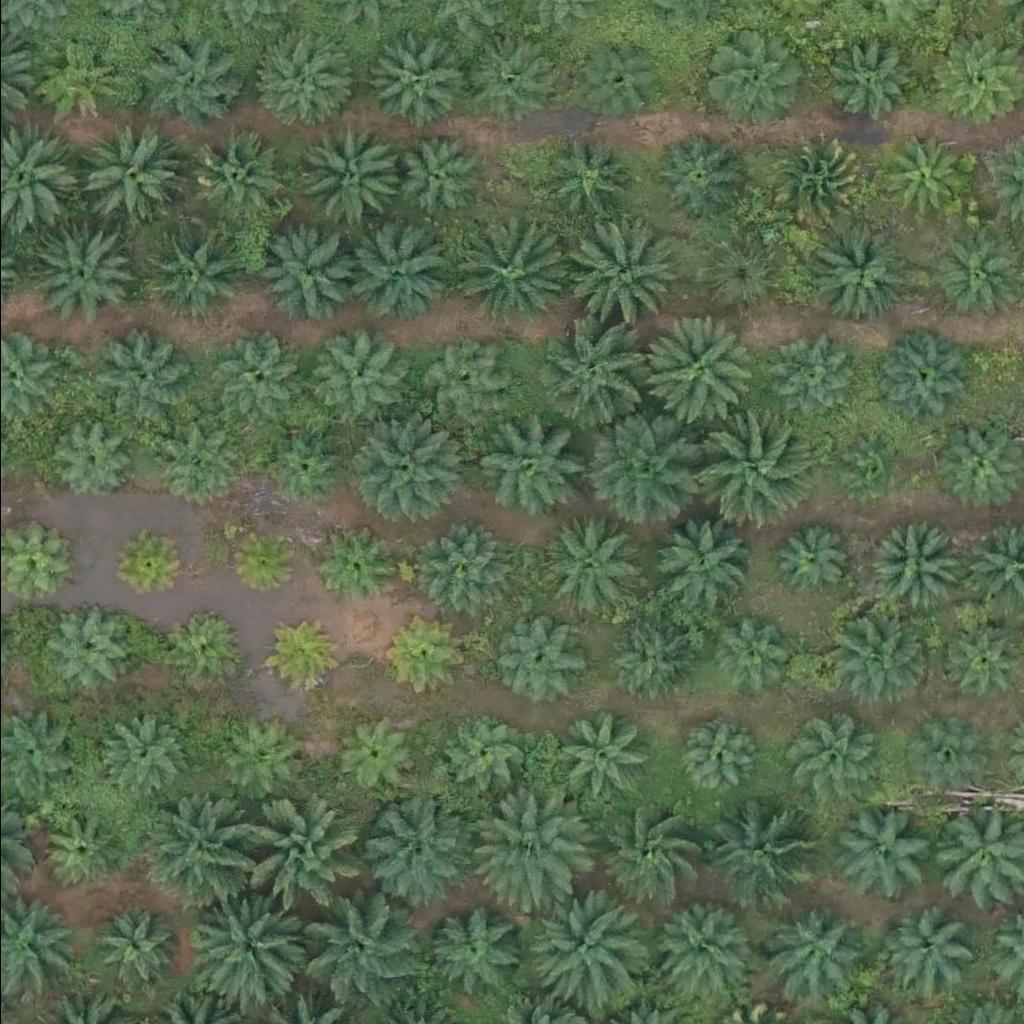Kelapa_Sawit: (559, 214, 673, 327), (299, 897, 412, 1010), (141, 796, 254, 909), (583, 409, 696, 522), (473, 410, 586, 523), (350, 411, 463, 524), (537, 320, 650, 433), (641, 316, 754, 429), (446, 210, 559, 323), (521, 896, 635, 1008), (236, 802, 350, 914), (697, 797, 811, 909), (692, 416, 806, 528), (194, 892, 307, 1004), (363, 789, 476, 901), (478, 789, 591, 901), (591, 793, 704, 905), (34, 223, 135, 323), (429, 897, 530, 997), (829, 809, 930, 909), (545, 708, 646, 808), (829, 603, 930, 703), (541, 512, 642, 612), (869, 330, 970, 430), (812, 222, 913, 322), (342, 219, 443, 319), (259, 224, 360, 324), (86, 124, 187, 224), (142, 223, 243, 323), (90, 330, 191, 430), (294, 126, 395, 226), (257, 30, 358, 130), (648, 892, 748, 992), (863, 517, 963, 617), (647, 511, 747, 611), (701, 26, 801, 126), (766, 135, 866, 235), (140, 31, 240, 131), (671, 710, 760, 798), (33, 804, 121, 892), (40, 599, 128, 687), (260, 421, 348, 509), (142, 421, 230, 509), (882, 902, 970, 990), (766, 903, 854, 991), (88, 904, 176, 992), (782, 718, 870, 806), (709, 612, 797, 700), (692, 224, 780, 312), (576, 36, 664, 124), (546, 129, 634, 217), (332, 707, 420, 795), (209, 712, 297, 800), (304, 331, 392, 419), (212, 332, 300, 420), (761, 333, 849, 421), (876, 129, 964, 217), (653, 134, 741, 222), (396, 134, 484, 222), (44, 417, 132, 504), (604, 615, 692, 702), (434, 710, 522, 797), (100, 711, 188, 798), (424, 525, 512, 612), (493, 612, 581, 699), (415, 337, 503, 424), (190, 129, 278, 216), (825, 29, 913, 116), (467, 35, 555, 122), (366, 38, 454, 125), (929, 425, 1017, 512), (30, 37, 118, 124), (771, 522, 847, 597), (166, 606, 242, 681), (904, 722, 980, 797), (113, 528, 189, 603), (262, 621, 338, 696), (321, 531, 396, 606), (224, 523, 299, 598), (385, 621, 460, 696), (840, 433, 903, 495)
